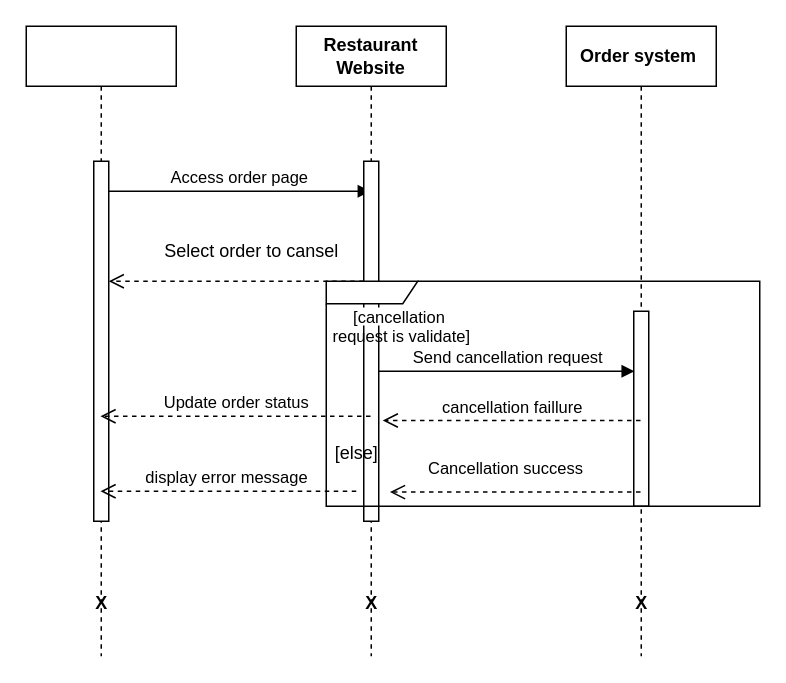
The diagram is 786 pixels wide and 683 high, and some of its shapes have lost their labels. The box of each missing label's shape, as (x1, y1, x2, y2) in pixels:
if: (325, 280, 760, 506)
USER: (25, 25, 176, 656)
